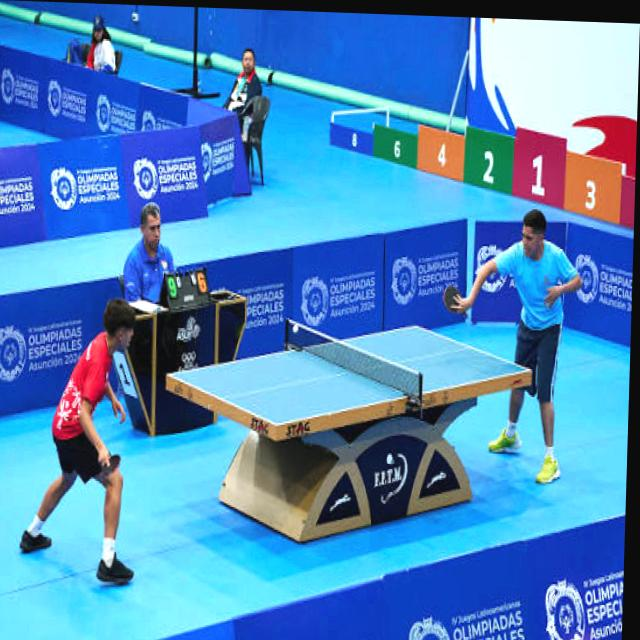TT Net: (284, 316, 424, 402)
TT Racket: (94, 449, 126, 482), (439, 281, 464, 315)
TT Table: (167, 325, 530, 427)
